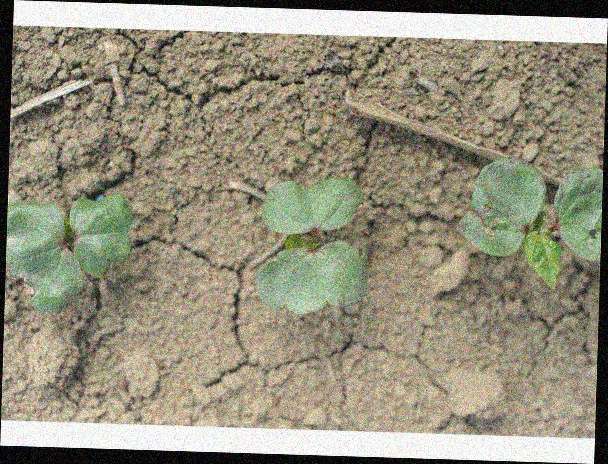cotton: (461, 159, 602, 291), (255, 174, 371, 316), (6, 192, 135, 316)
